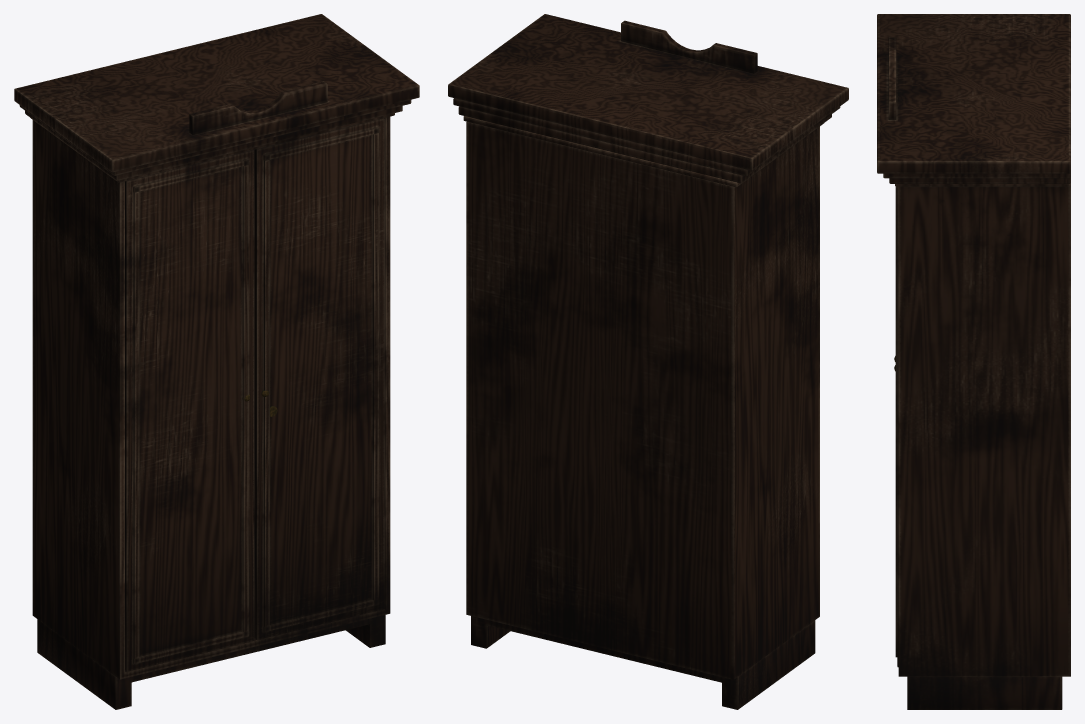
Rendered from vera_wardrobe.glb.
The picture shows the model from 3 angles, left to right: view 1: azimuth 30°, elevation 25°; view 2: azimuth 150°, elevation 25°; view 3: azimuth 270°, elevation 25°; orthographic projection.
Visible parts, largest first — view 1: Door1, Door0, Body, Cornice; view 2: Body, Cornice; view 3: Body, Cornice, Door1.
Boxes of the visible parts, x1=… form: Door1: x1=254, y1=118, x2=384, y2=639; Door0: x1=125, y1=150, x2=254, y2=671; Body: x1=31, y1=113, x2=394, y2=709; Cornice: x1=14, y1=14, x2=419, y2=180; Body: x1=463, y1=116, x2=823, y2=709; Cornice: x1=448, y1=14, x2=848, y2=183; Body: x1=895, y1=183, x2=1070, y2=709; Cornice: x1=877, y1=14, x2=1070, y2=183; Door1: x1=895, y1=186, x2=898, y2=667.
Size of the model in its own units: 1.14 by 2.06 by 0.63.
Materials: 9 (9 with a texture image).
